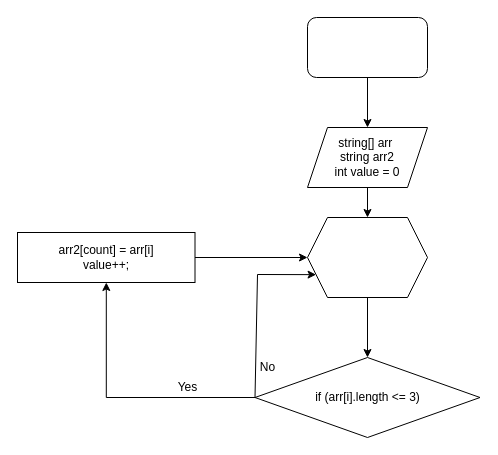
This 498x455 diagram has some shape labels left out. The shapes that lost their labels are listed below. From the top down, each one's centre as x and y in pixels, then its label:
point 367,47: Arrays
point 367,257: for (int i = 0; i < arr.length; i++)
